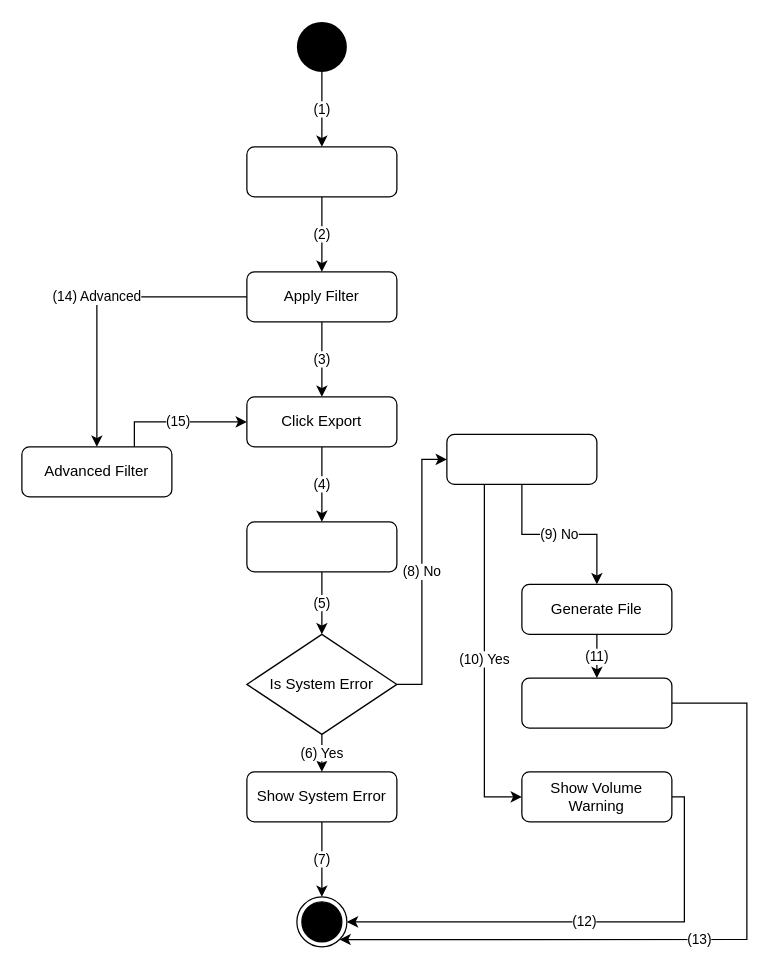
The diagram is 779 pixels wide and 971 high, and some of its shapes have lost their labels. Each missing label, with the centre of its shape:
Compile List: the point at 321,546
Is Volume Exceeded: the point at 521,458
Navigate Menu: the point at 321,171
Prompt Download: the point at 596,702
